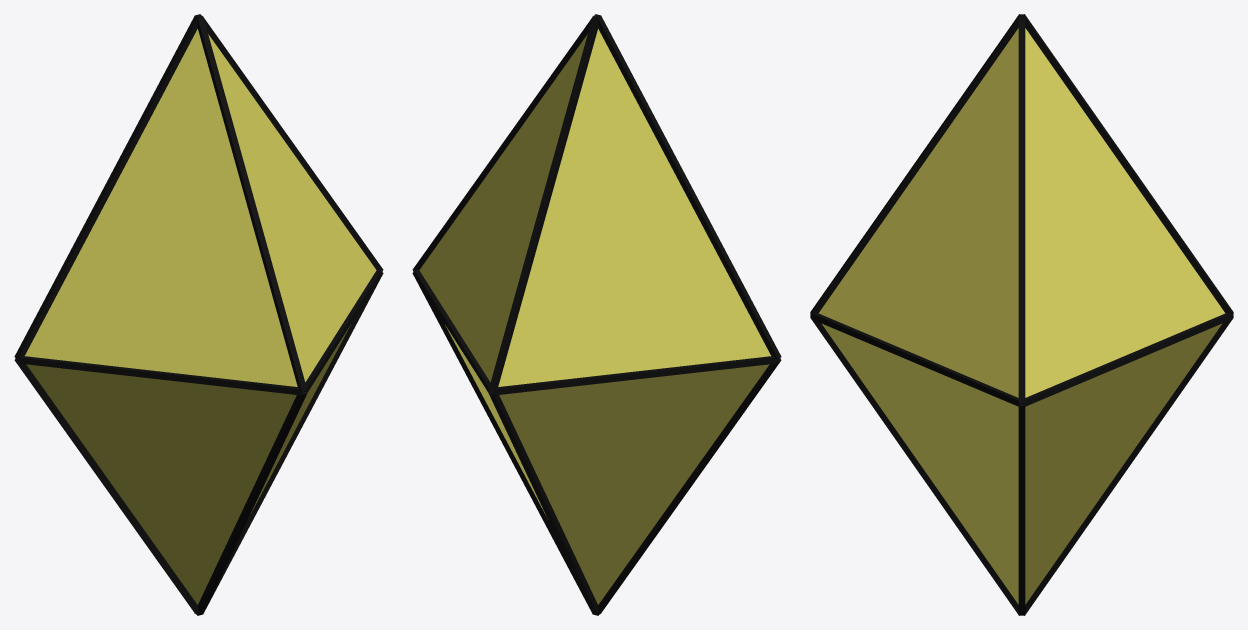
3 views of the same model, side by side, from view 1: azimuth 30°, elevation 25°; view 2: azimuth 150°, elevation 25°; view 3: azimuth 270°, elevation 25° (orthographic).
Parts seen in each view (by area): view 1: body; view 2: body; view 3: body.
Part boxes in pixels (<box>): body: <box>14,14,383,615</box>; body: <box>412,14,781,615</box>; body: <box>810,14,1233,615</box>.
Bounding box in the file's own units: 0.16 × 0.25 × 0.16.
1 material, 1 textured.
